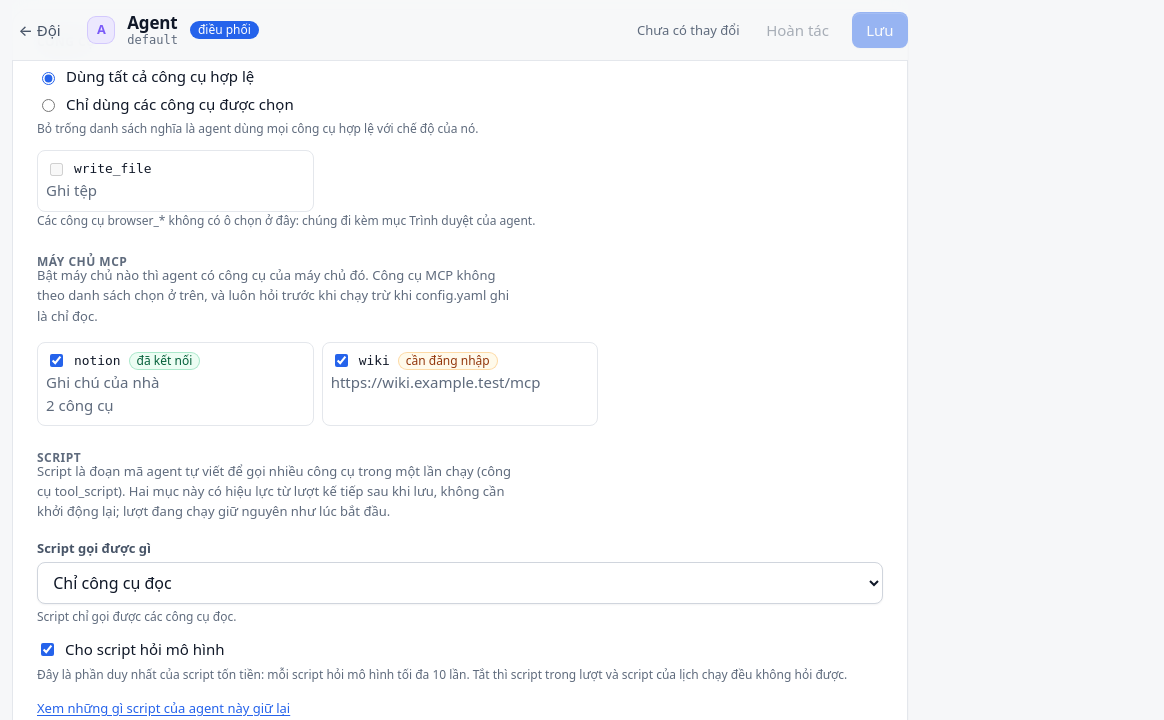
the MCP servers of an agent › takes a server away with one tick, and is clean again once ticked back
(page scrolled)
Click the checkbox labelled "notion đã kết nối".
click(56, 361)  # box [50, 354, 63, 367]
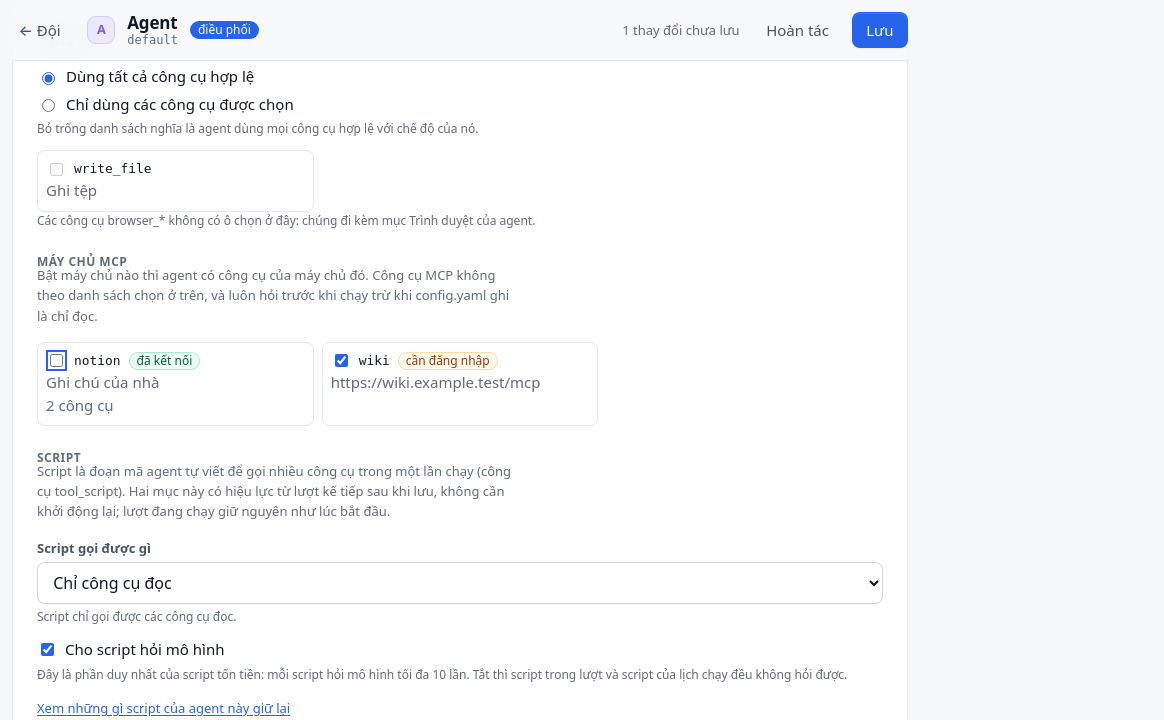
Click the button "Lưu".
click(880, 30)  # box [852, 12, 908, 48]
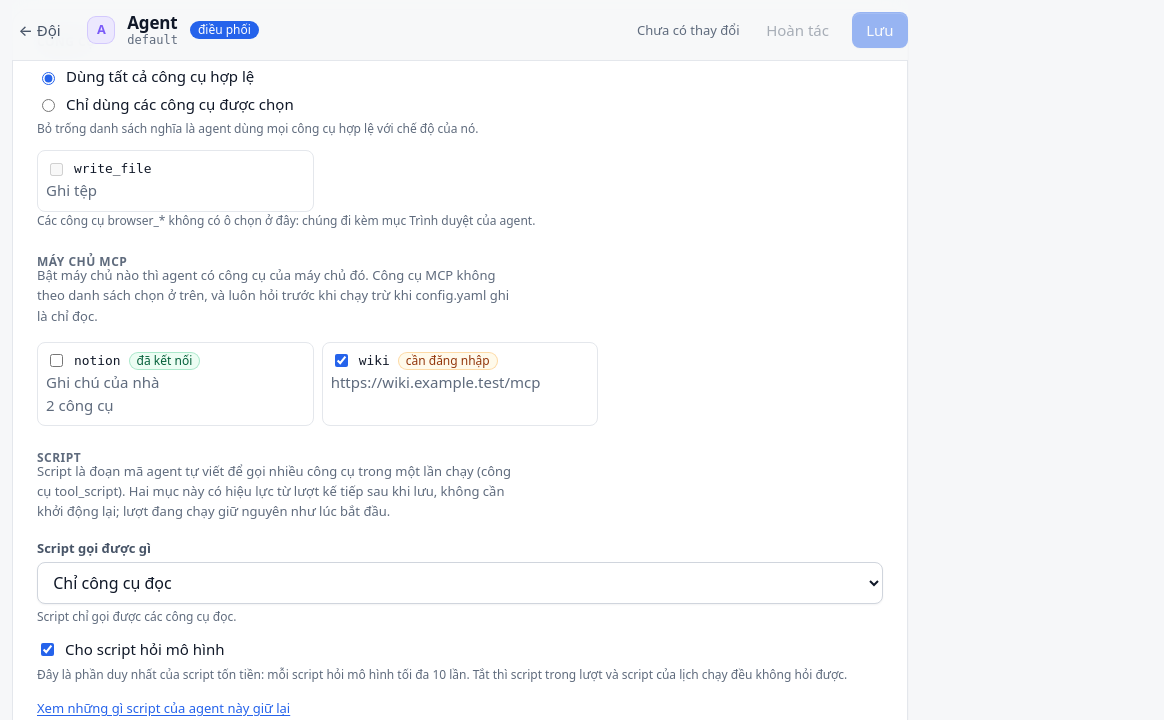
Now the text "Chưa có thay đổi" is shown, box [637, 20, 740, 40]
Click the checkbox labelled "wiki cần đăng nhập".
click(341, 361)  # box [335, 354, 348, 367]
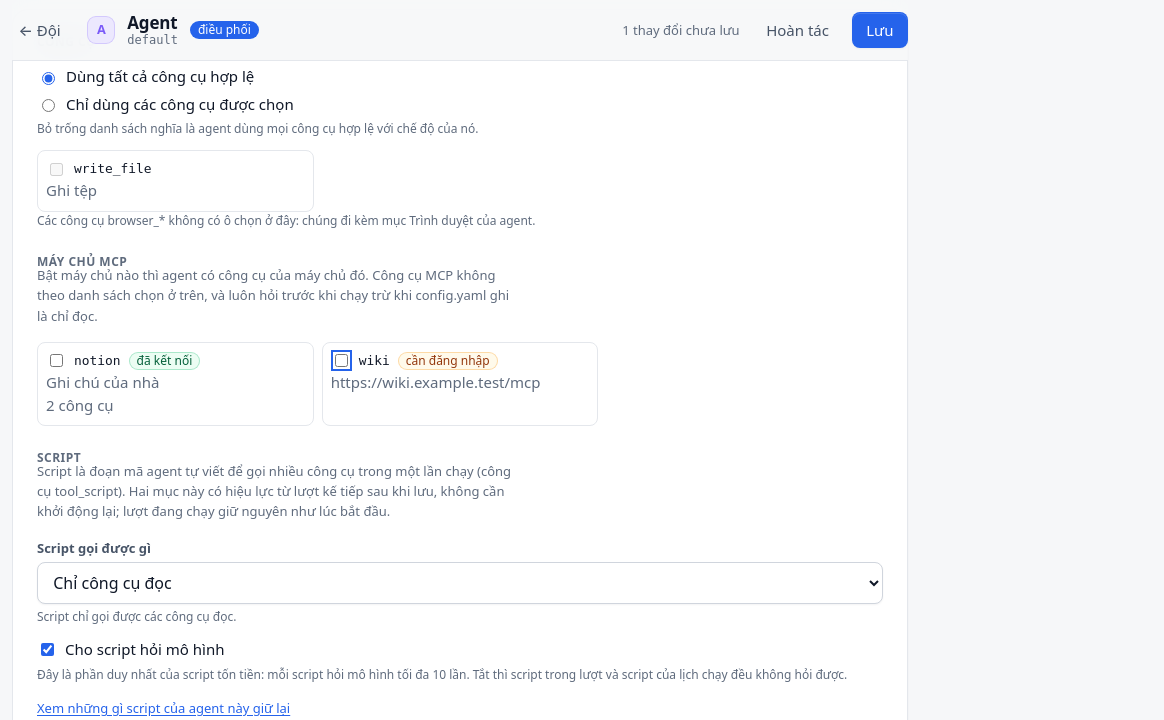
Click the checkbox labelled "wiki cần đăng nhập".
click(341, 361)  # box [335, 354, 348, 367]
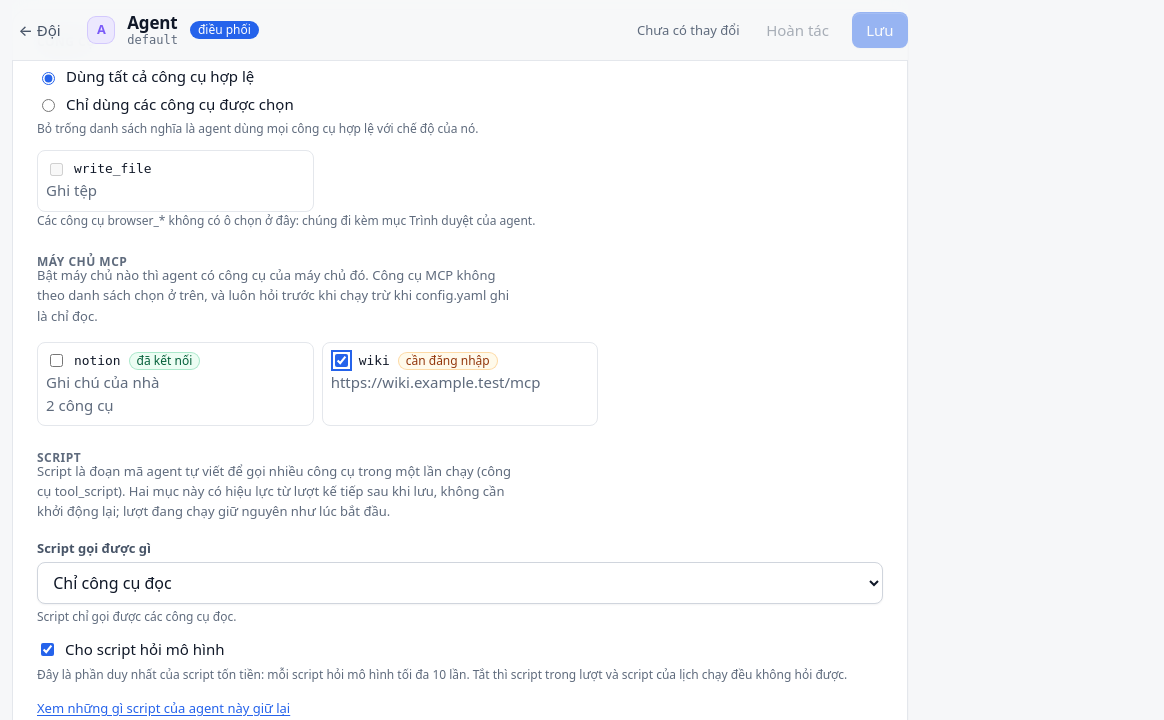
Now the text "Chưa có thay đổi" is shown, box [637, 20, 740, 40]
